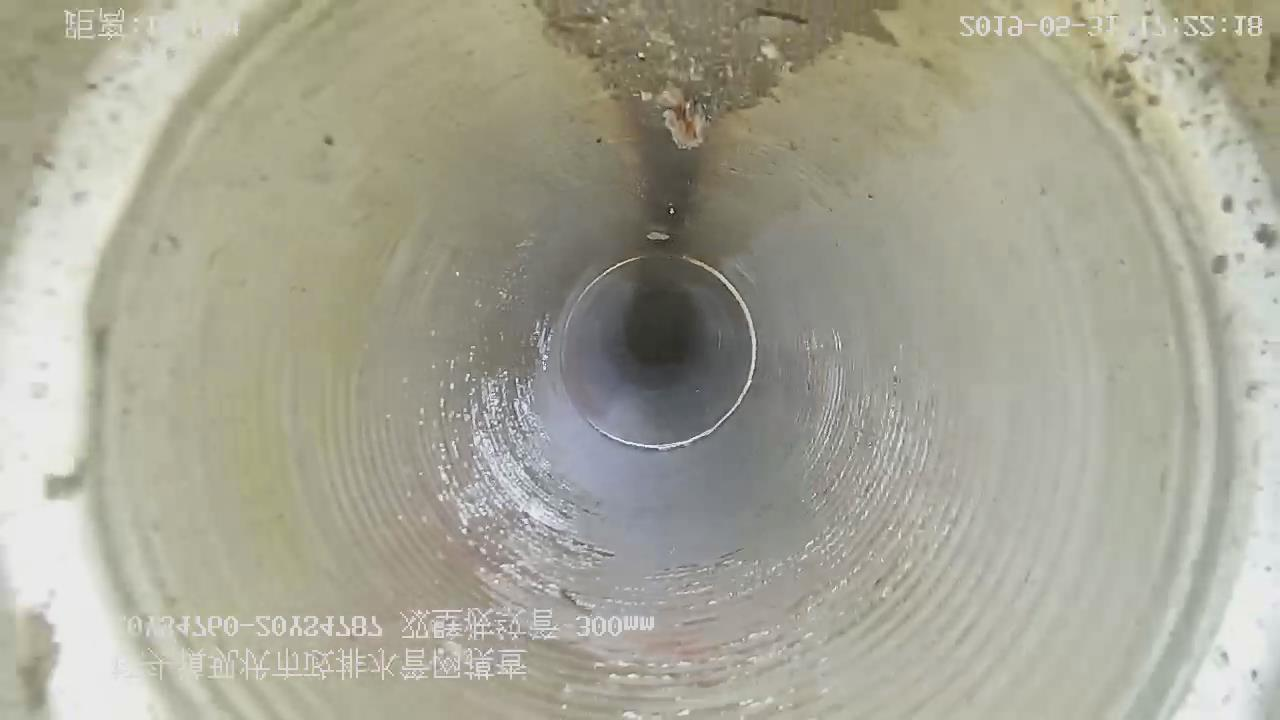CKTJ: (587, 256, 758, 450), (562, 255, 647, 346)
